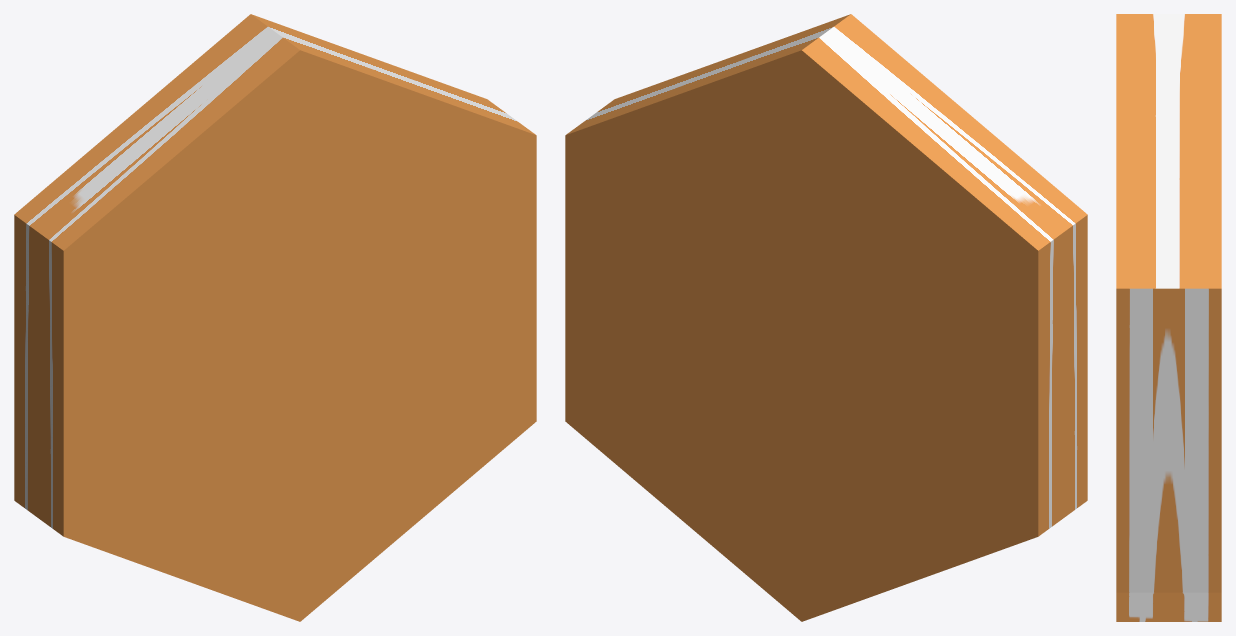
File: hexagon.fbx
The picture shows the model from 3 angles, left to right: view 1: azimuth 30°, elevation 25°; view 2: azimuth 150°, elevation 25°; view 3: azimuth 270°, elevation 25°; orthographic projection. The views are drawn at different scales.
Parts seen in each view (by area): view 1: hexagon; view 2: hexagon; view 3: hexagon.
Boxes of the visible parts, x1=… form: hexagon: x1=14, y1=14, x2=536, y2=621; hexagon: x1=565, y1=14, x2=1087, y2=621; hexagon: x1=1116, y1=14, x2=1221, y2=621.
Bounding box in the file's own units: 173 × 200 × 31.36.
Materials: 1 (1 with a texture image).
